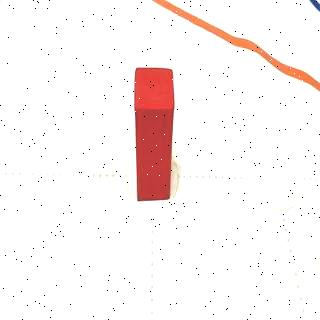redbox: (133, 66, 175, 203)
